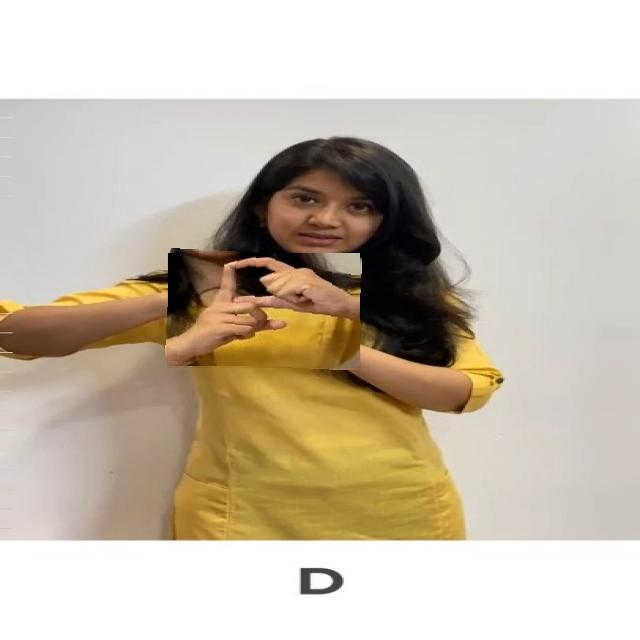D: (167, 251, 361, 368)
